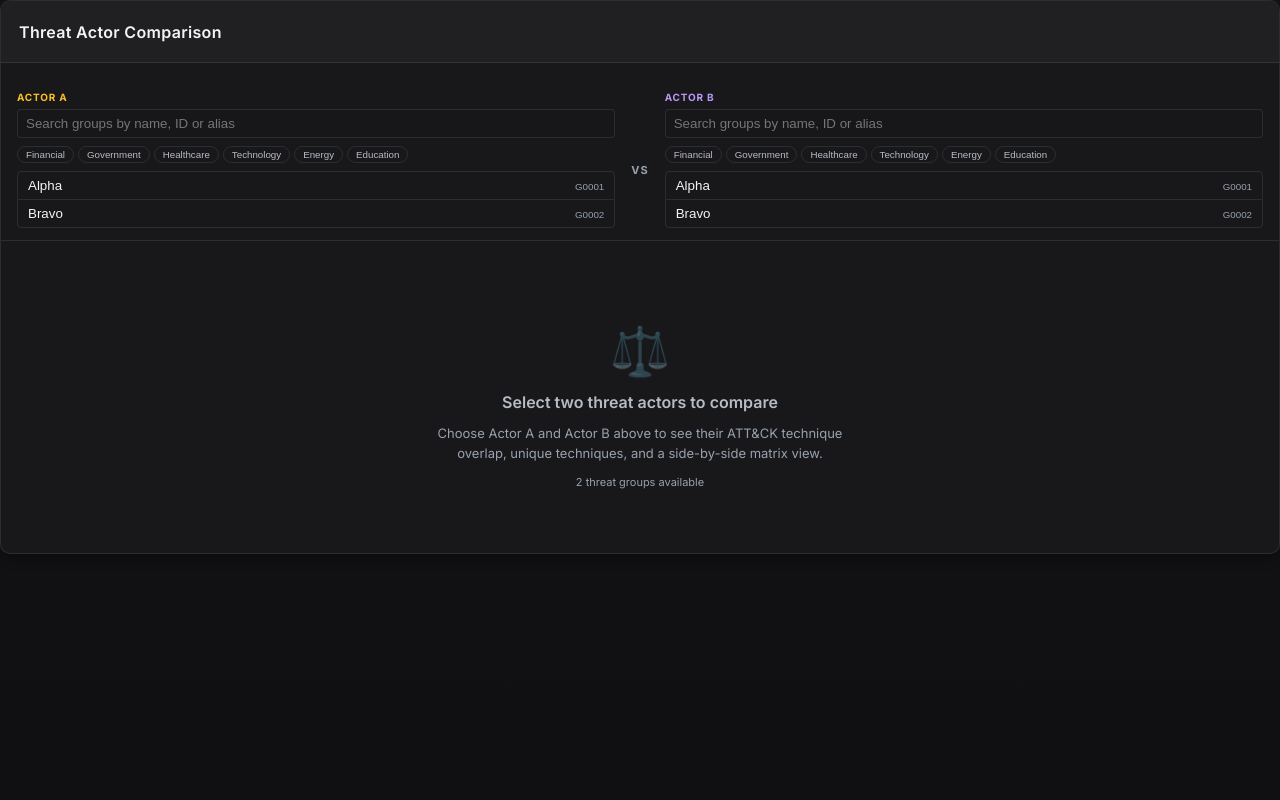
ActorComparePanelComponent › refuses a self-comparison when the same group is picked in both pickers
The width and height of the screenshot is (1280, 800).
Step 1. Click the 1st button with class "tpp-item" → (45, 186), box top-left (18, 172), bottom-right (614, 199)
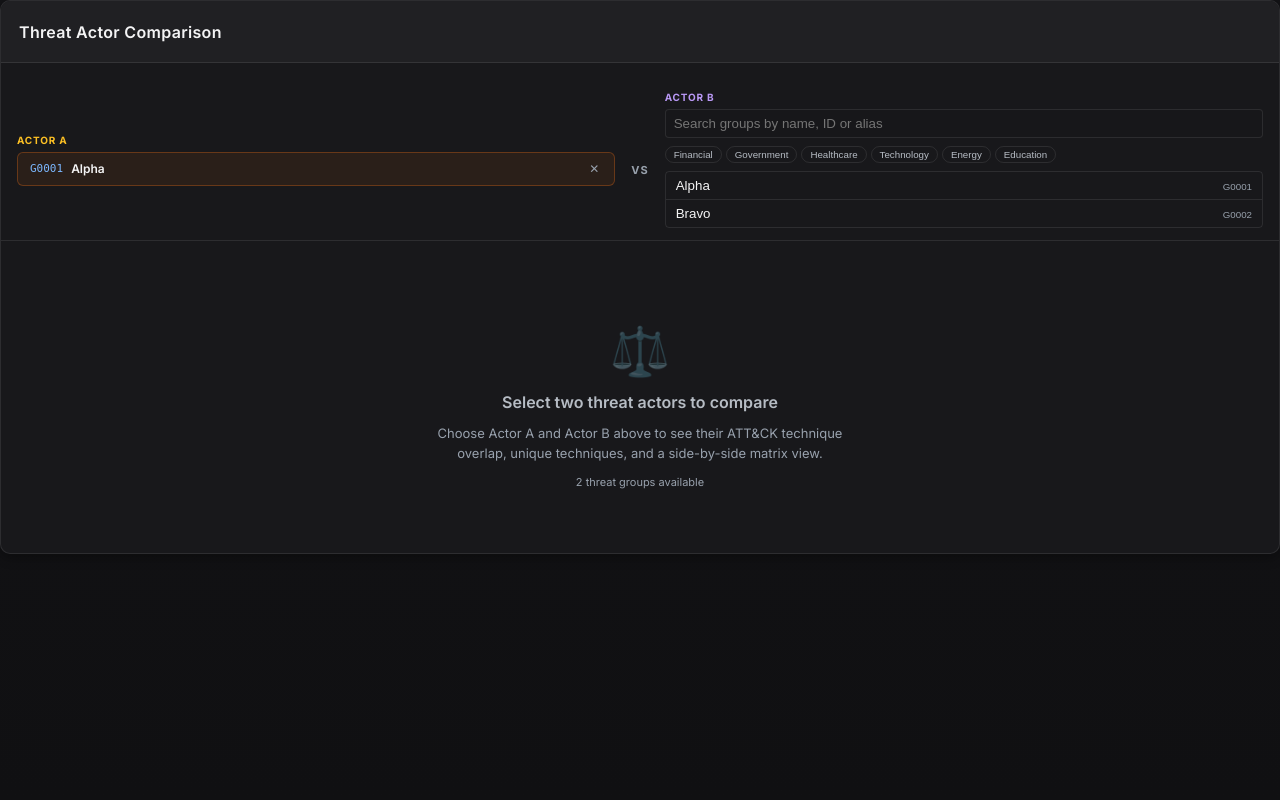
Step 2. Click the button with class "tpp-item" showing "Alpha G0001" → (693, 186), box top-left (666, 172), bottom-right (1262, 199)
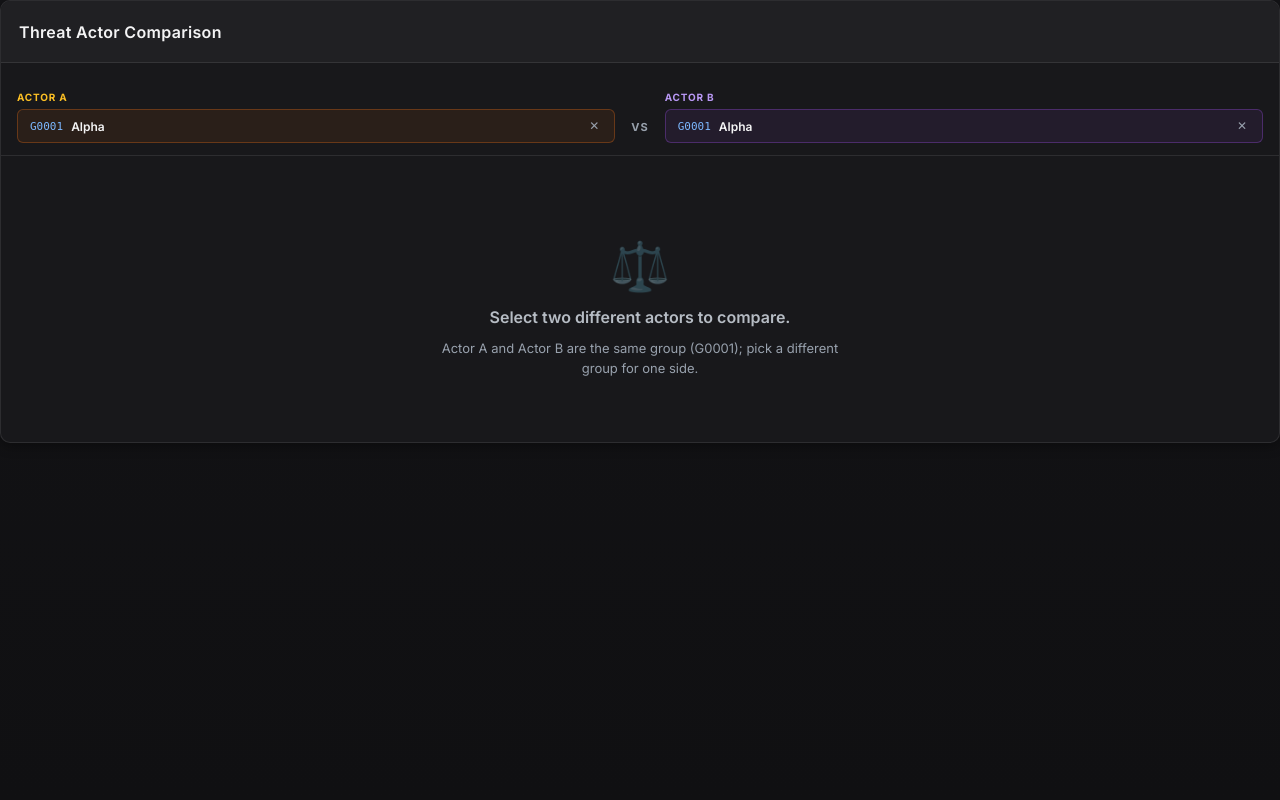
Expected: the element with test id "same-group" is shown, top-left (442, 236), bottom-right (838, 376)
